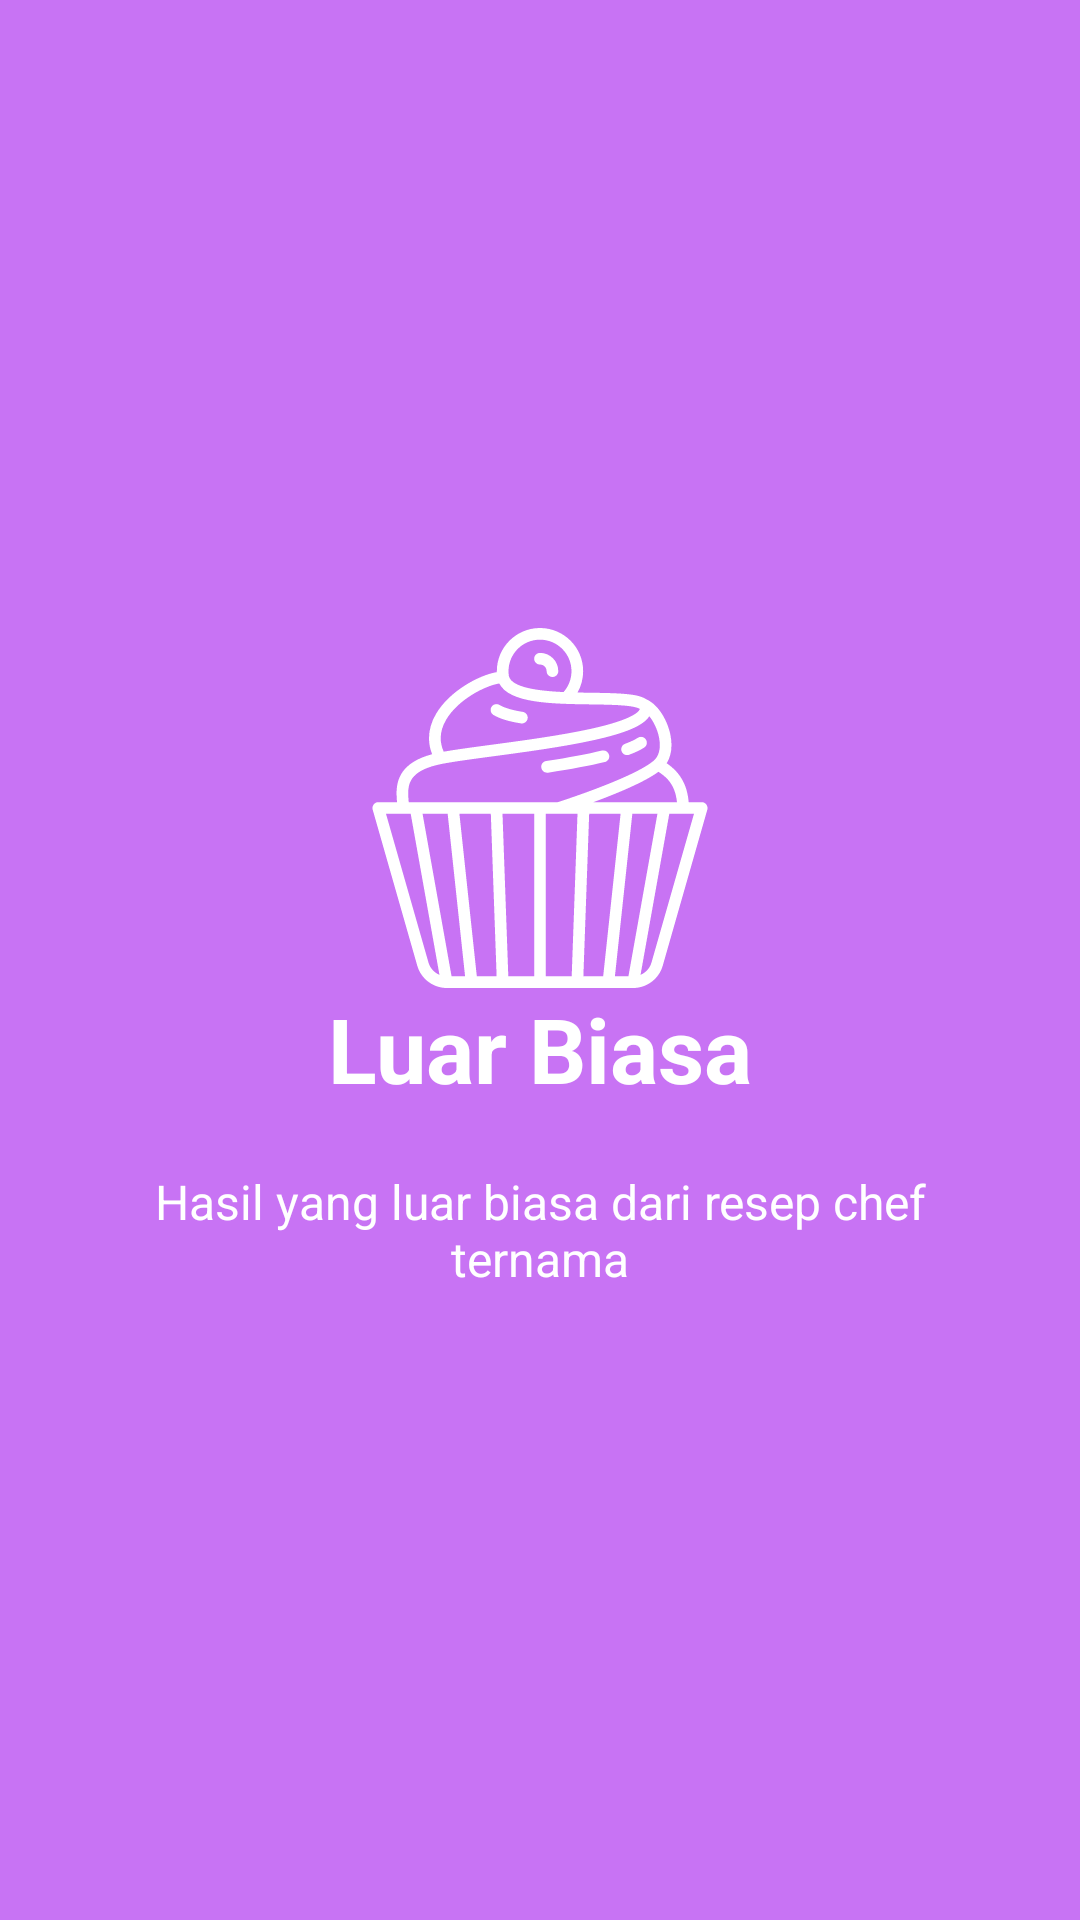

Icon bounding boxes for this 1080*1920 phone screenshot, format (x1, y1, x2, y2):
cupcake: (372, 628, 708, 988)
